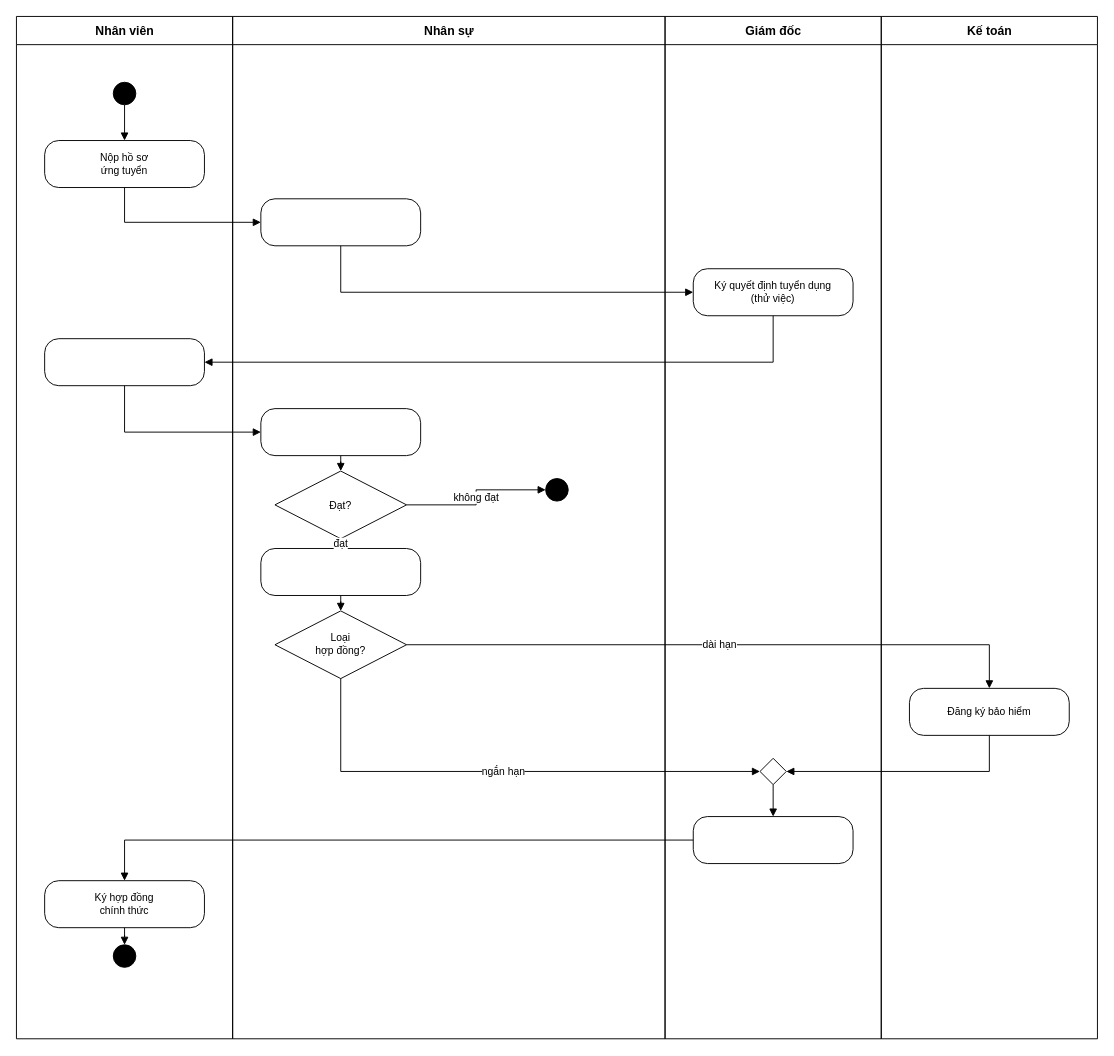
The diagram is 1114 pixels wide and 1056 high, and some of its shapes have lost their labels. Here are the shapes that lost their labels. From the top down, the centre of each, then its label:
At [340,222]: "Lập hồ sơ nhân viên".
At [124,362]: "Làm việc thử việc".
At [340,432]: "Đánh giá thử việc".
At [340,571]: "Lập hợp đồng lao động".
At [772,840]: "Ký hợp đồng".
